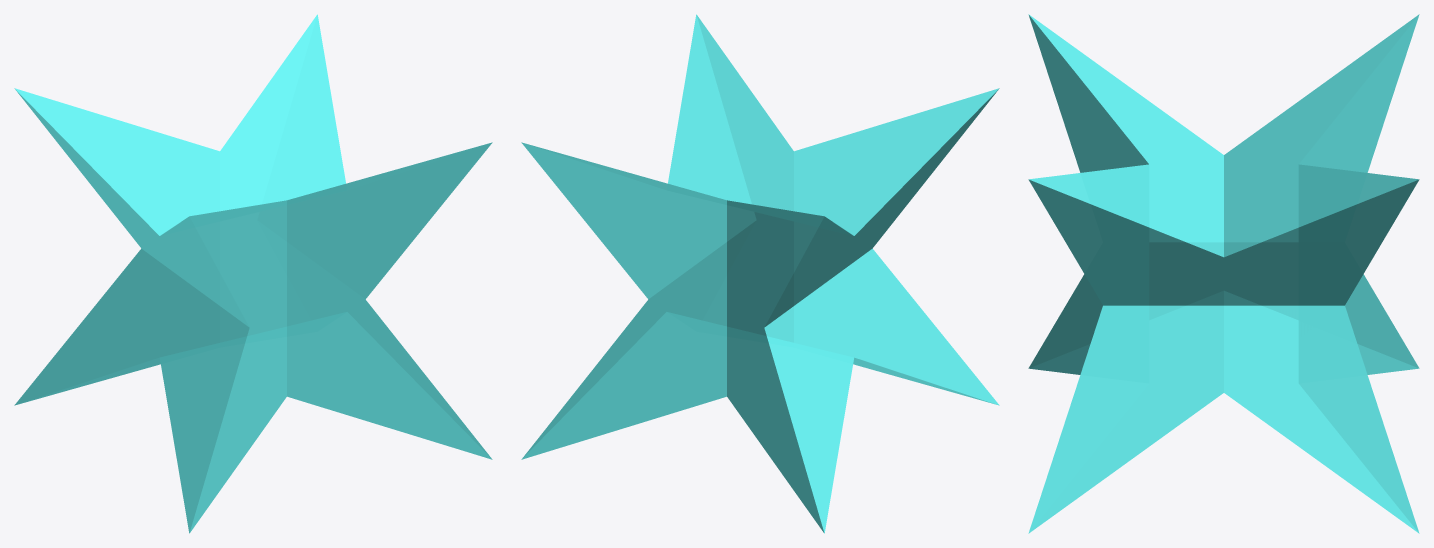
Rendered from ConcaveDodecahedron.obj.
3 views of the same model, side by side, from view 1: azimuth 30°, elevation 25°; view 2: azimuth 150°, elevation 25°; view 3: azimuth 270°, elevation 25° (orthographic). The views are drawn at different scales.
Bounding box in the file's own units: 1.62 × 1.62 × 1.62.
